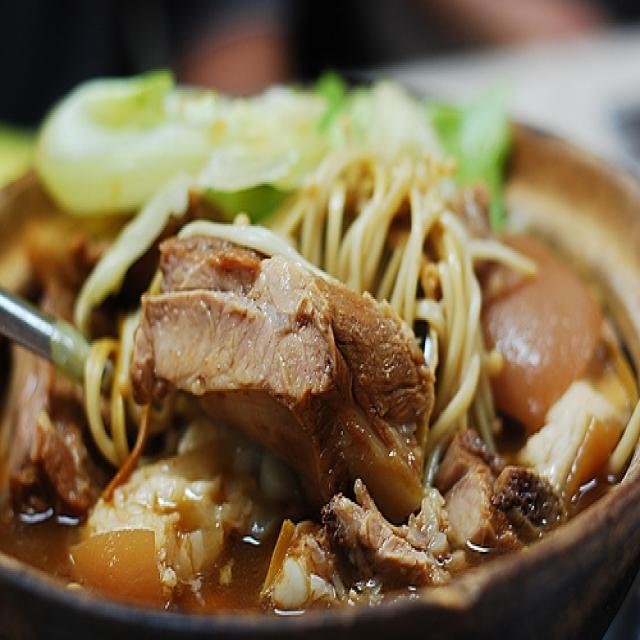汤锅炖物: (5, 63, 631, 608)
